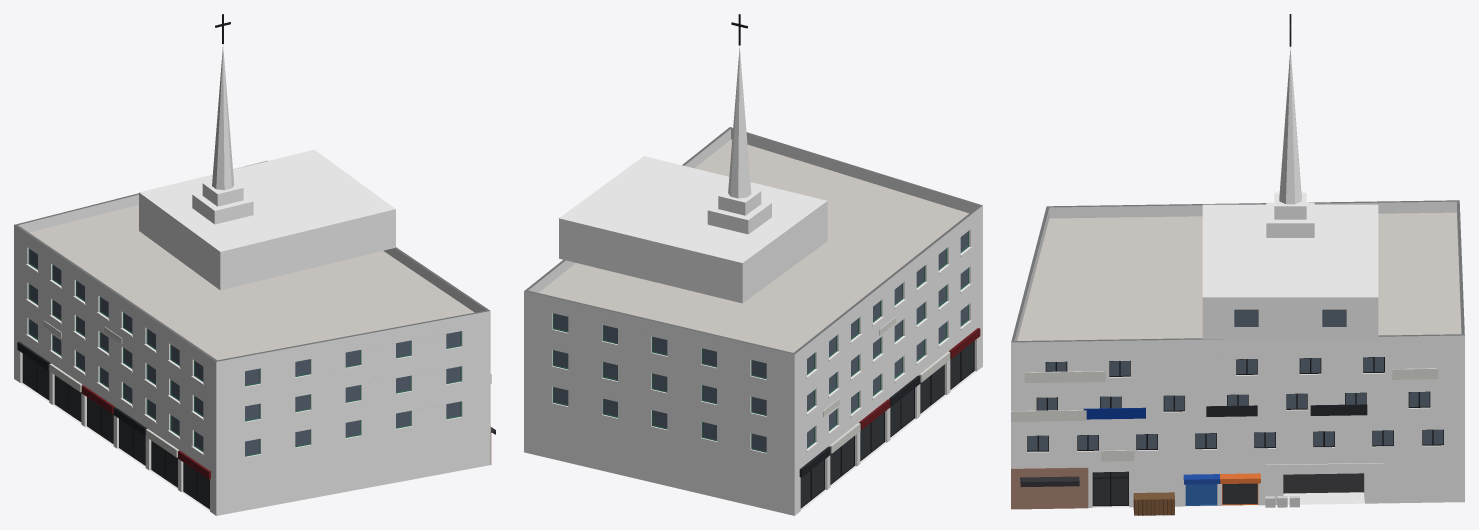
The model's file is deoksan528.glb.
The picture shows the model from 3 angles, left to right: view 1: azimuth 30°, elevation 25°; view 2: azimuth 150°, elevation 25°; view 3: azimuth 270°, elevation 25°; orthographic projection. The views are drawn at different scales.
Parts seen in each view (by area): view 1: deoksan528; view 2: deoksan528; view 3: deoksan528.
Part boxes in pixels (x1=…): deoksan528: x1=14, y1=14, x2=495, y2=515; deoksan528: x1=524, y1=14, x2=982, y2=515; deoksan528: x1=1011, y1=14, x2=1464, y2=515.
Bounding box in the file's own units: 26.23 × 34.4 × 33.55.
